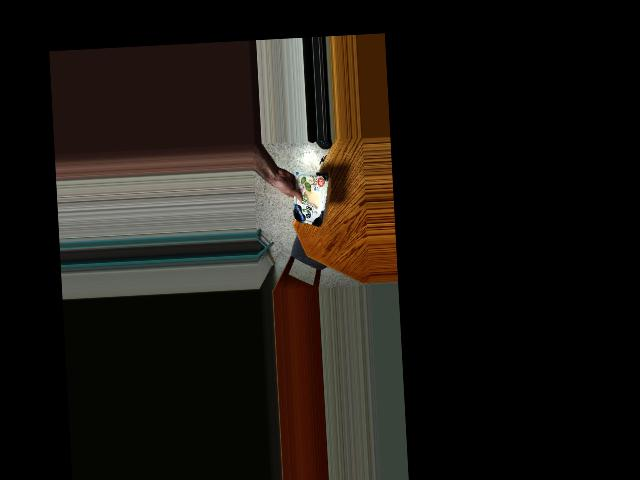cheese: (288, 167, 325, 229)
